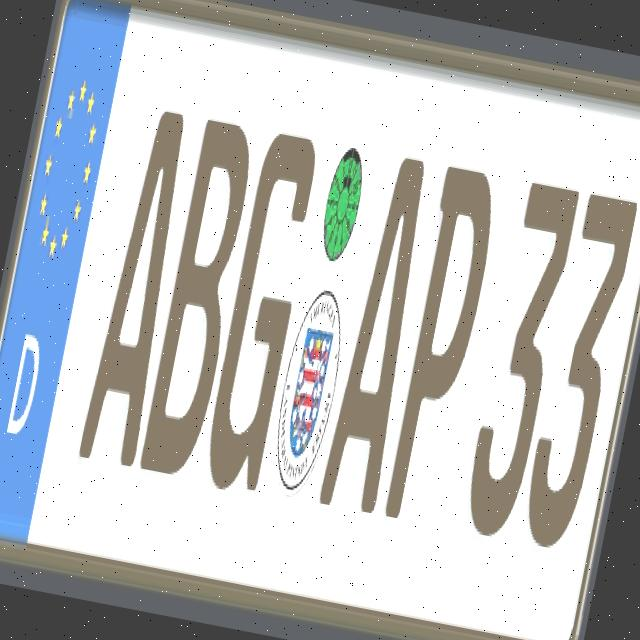Allemagne: (0, 0, 131, 549)
EU: (0, 0, 640, 640)
